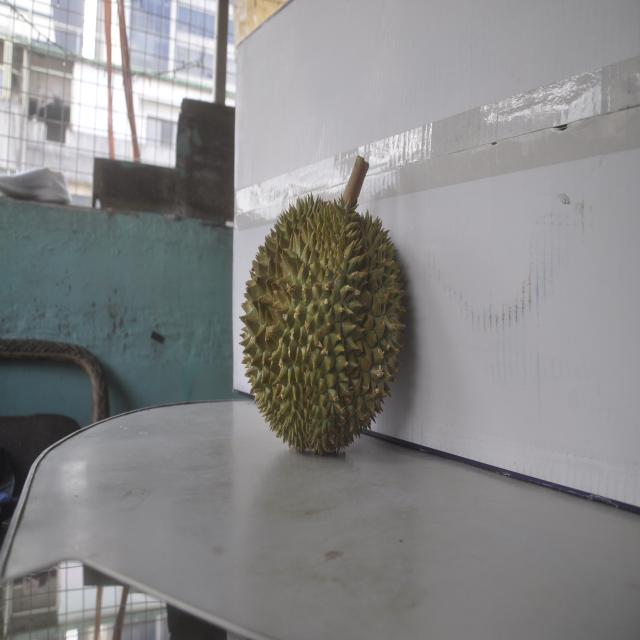mature: (238, 181, 405, 458)
